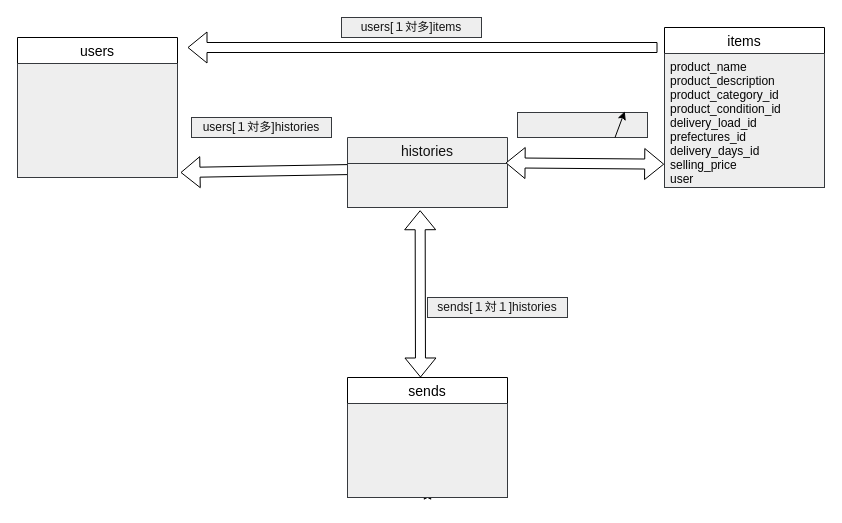
Image size: 842x523. Some labels were removed from this diagram. The shapes that lost their labels are listed below. From the top down, each one's centre as x and y in pixels, then its label:
At pixel 97 120: "email nickname last_name first_name last_name_k first_name_k date_of_birth".
At pixel 582 125: "items[１対１]histories".
At pixel 427 185: "item user".
At pixel 427 450: "post_code prefectures_id municipalities address building_name telephone_number".
